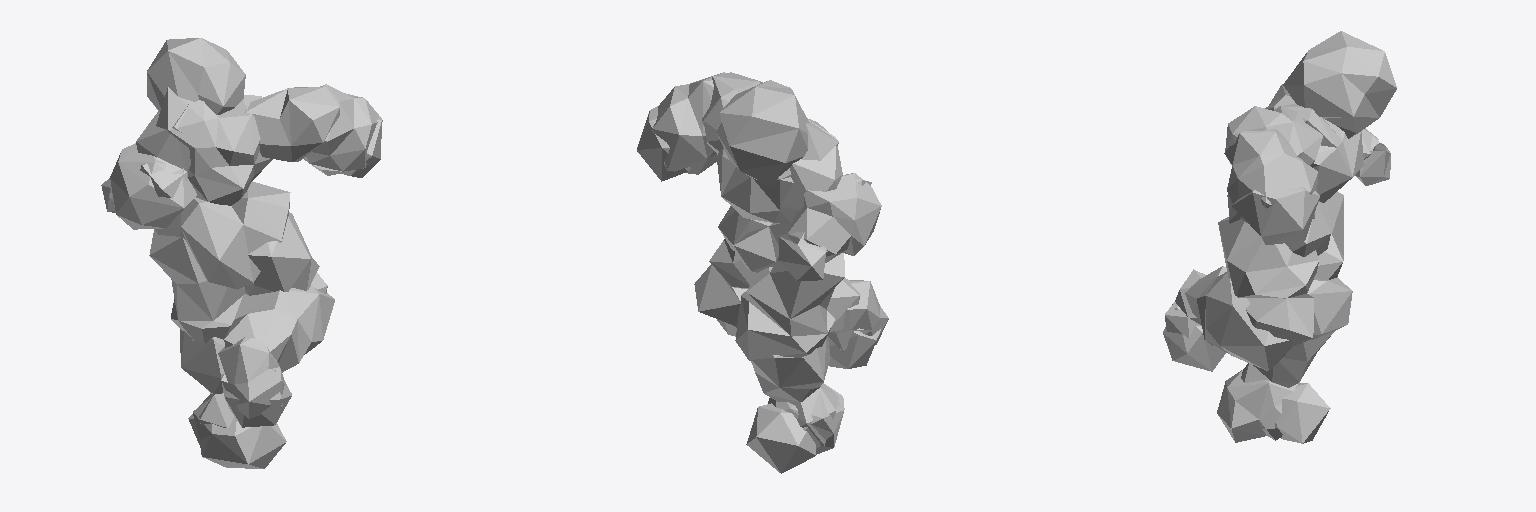
The model's file is dance_frames0348.obj.
3 renders of one model, left to right at view 1: azimuth 30°, elevation 25°; view 2: azimuth 150°, elevation 25°; view 3: azimuth 270°, elevation 25°, orthographic.
Parts seen in each view (by area): view 1: Beta_Surface; view 2: Beta_Surface; view 3: Beta_Surface.
Boxes of the visible parts, box(x1,y1,x2,y2) form: Beta_Surface: box(101, 38, 382, 468); Beta_Surface: box(637, 72, 888, 473); Beta_Surface: box(1163, 31, 1396, 443).
Bounding box in the file's own units: 1.25 × 1.97 × 1.05.